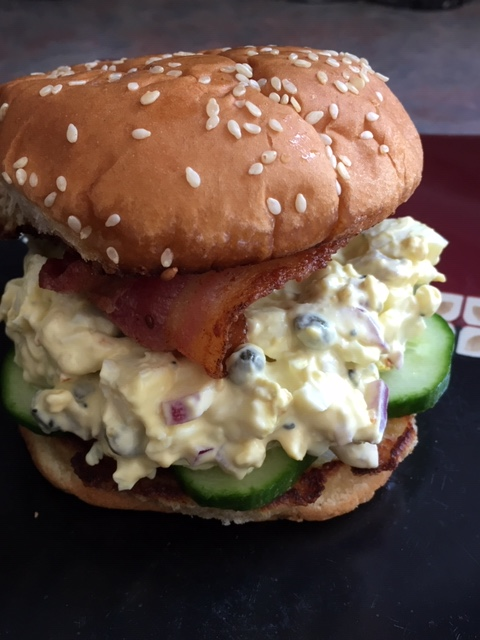hamburger_buns: (1, 33, 434, 276)
